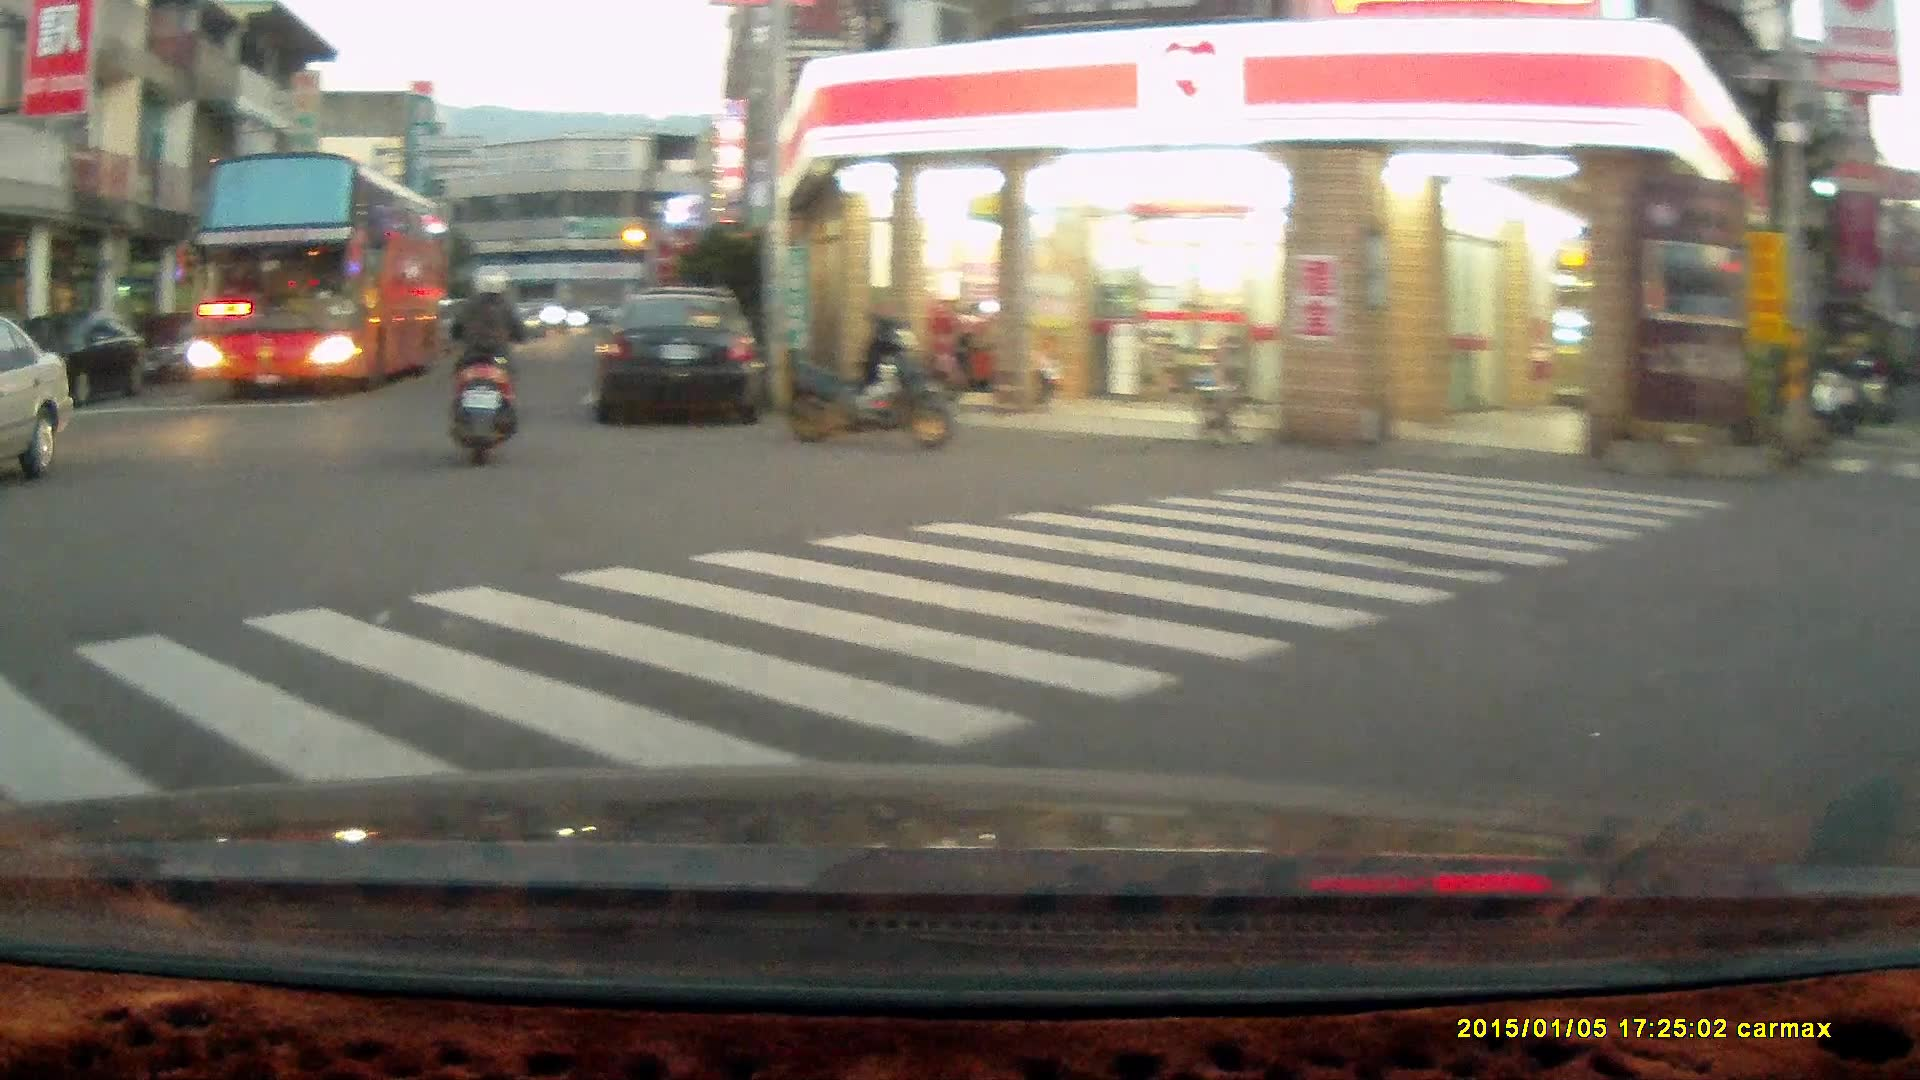rider: (438, 261, 531, 467)
vehicle: (189, 149, 462, 399), (592, 288, 771, 427), (6, 313, 150, 408)
